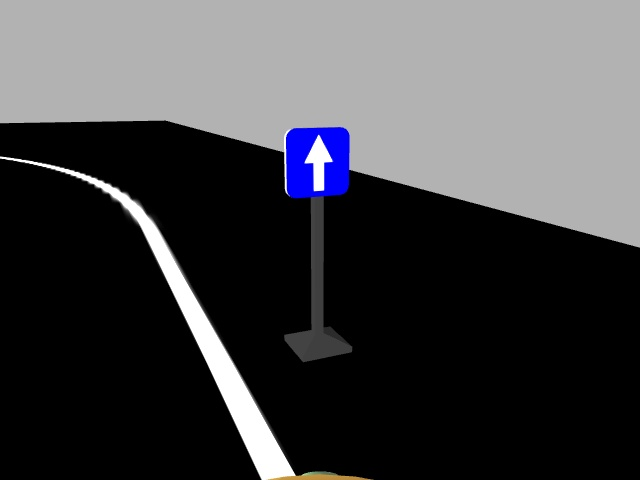OneWay: (282, 126, 349, 195)
